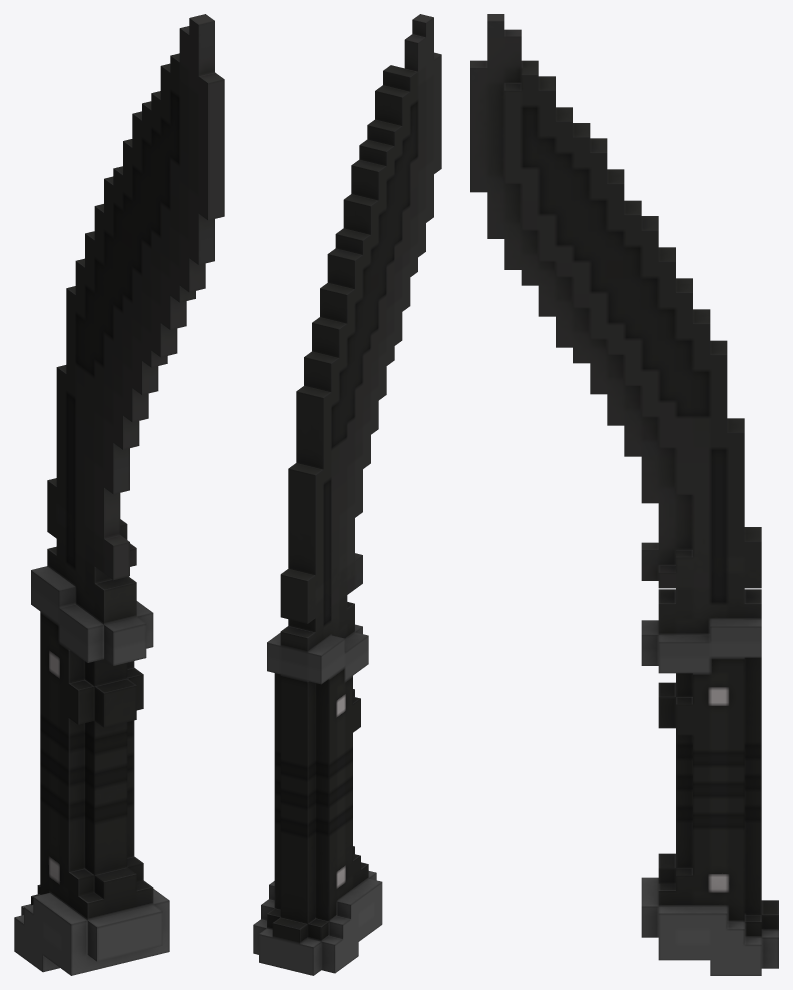
Rendered from RD_KUKRI.glb.
3 renders of one model, left to right at view 1: azimuth 30°, elevation 25°; view 2: azimuth 150°, elevation 25°; view 3: azimuth 270°, elevation 25°, orthographic. The views are drawn at different scales.
Visible parts, largest first — view 1: KUKRI; view 2: KUKRI; view 3: KUKRI.
Part boxes in pixels (x1,y1,x2,y2): KUKRI: [14, 14, 224, 975]; KUKRI: [253, 14, 441, 975]; KUKRI: [470, 14, 778, 975].
Bounding box in the file's own units: 0.0827 × 0.8268 × 0.248.
Materials: 1 (1 with a texture image).
